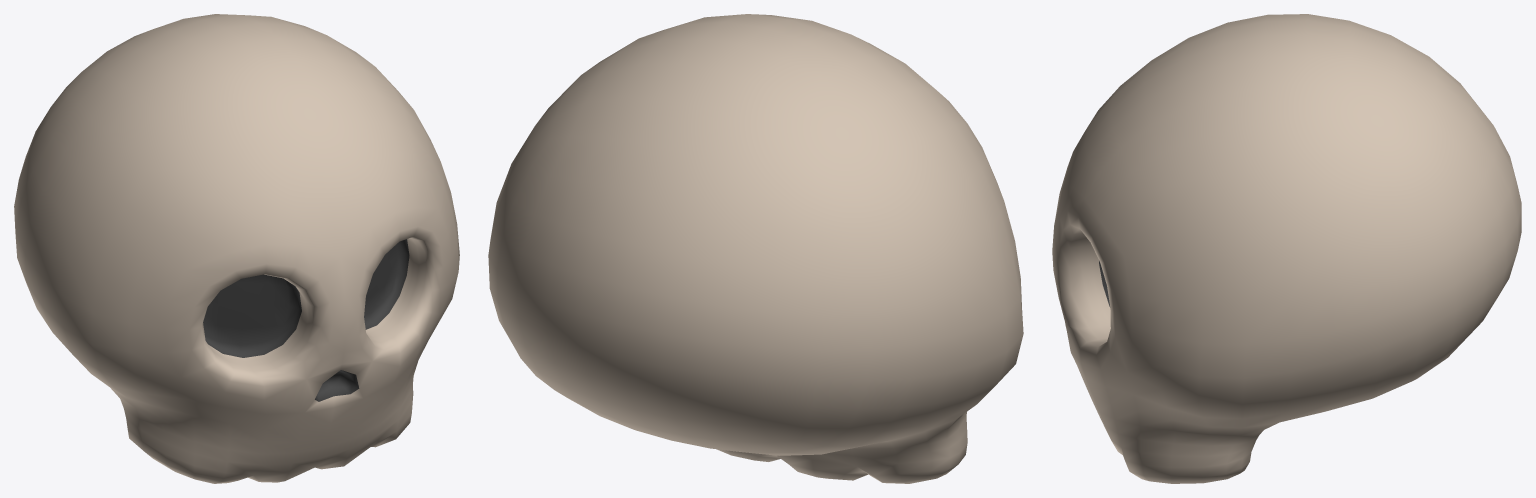
Rendered from skeleton.glb.
The picture shows the model from 3 angles, left to right: view 1: azimuth 30°, elevation 25°; view 2: azimuth 150°, elevation 25°; view 3: azimuth 270°, elevation 25°; orthographic projection. The views are drawn at different scales.
Visible parts, largest first — view 1: Roundcube.002; view 2: Roundcube.002; view 3: Roundcube.002.
Boxes of the visible parts, <box> form: Roundcube.002: <box>14,14,459,483</box>; Roundcube.002: <box>488,14,1023,483</box>; Roundcube.002: <box>1052,14,1521,483</box>.
Size of the model in its own units: 1.87 by 1.81 by 1.87.
